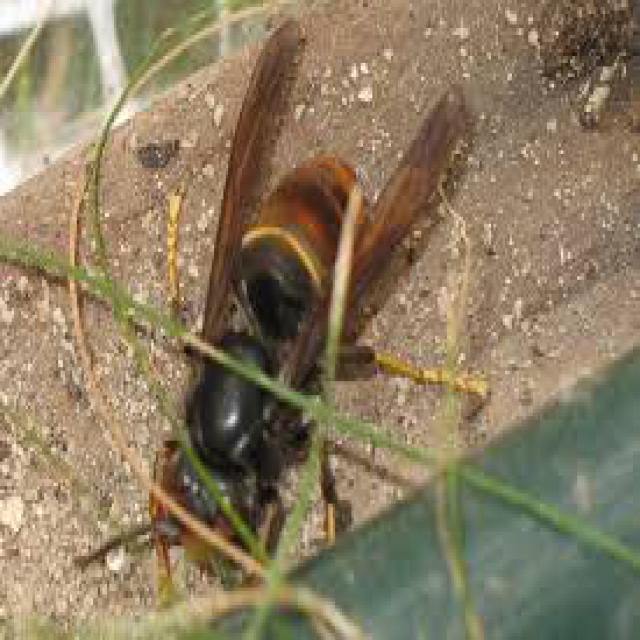Vespa Velutina: (73, 15, 496, 628)
